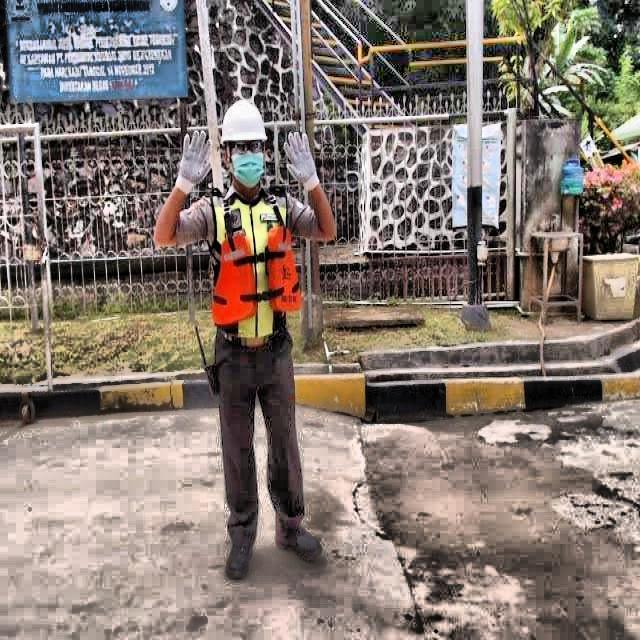gloved: (281, 125, 327, 200), (173, 124, 217, 199)
